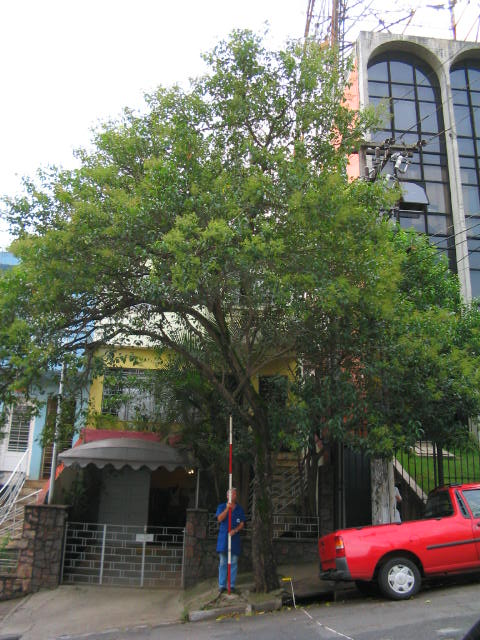crown: (4, 18, 476, 451)
stem: (240, 431, 287, 591)
stick: (220, 413, 236, 596)
tree: (2, 17, 477, 590)
